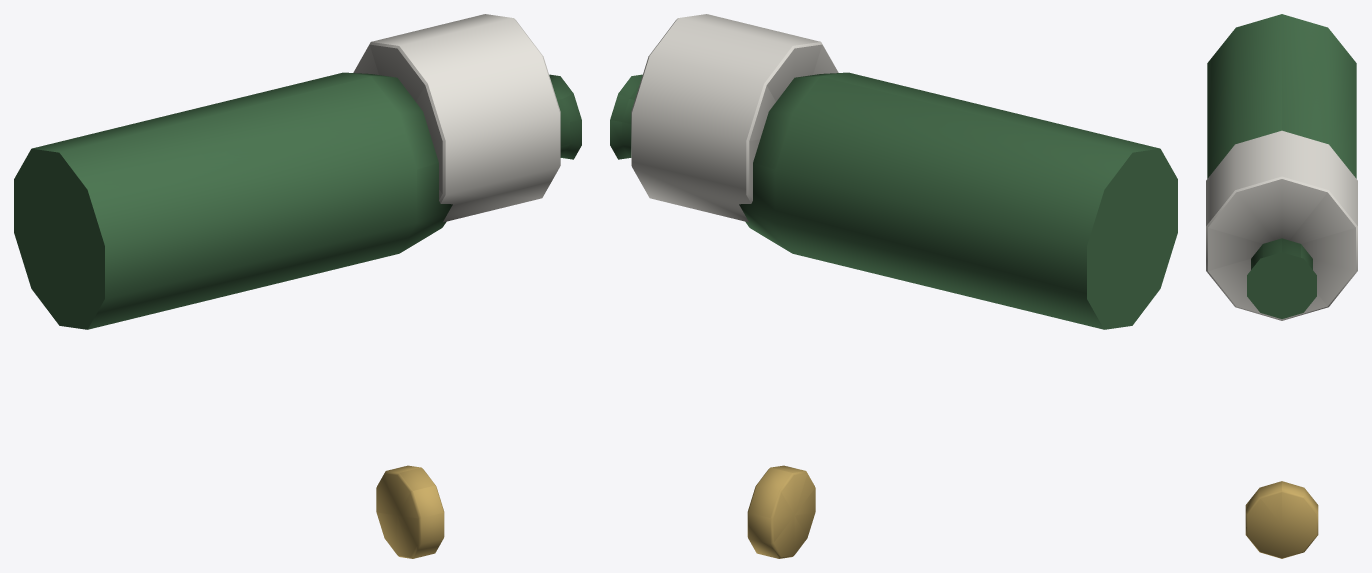
File: bottle_tipped.glb
The picture shows the model from 3 angles, left to right: view 1: azimuth 30°, elevation 25°; view 2: azimuth 150°, elevation 25°; view 3: azimuth 270°, elevation 25°; orthographic projection. The views are drawn at different scales.
Parts seen in each view (by area): view 1: bottle_tipped; view 2: bottle_tipped; view 3: bottle_tipped.
Boxes of the visible parts, x1,y1,x2,y2 form: bottle_tipped: (14, 14, 581, 558); bottle_tipped: (610, 14, 1177, 558); bottle_tipped: (1206, 14, 1357, 558).
Bounding box in the file's own units: 0.212 × 0.2066 × 0.0677.
